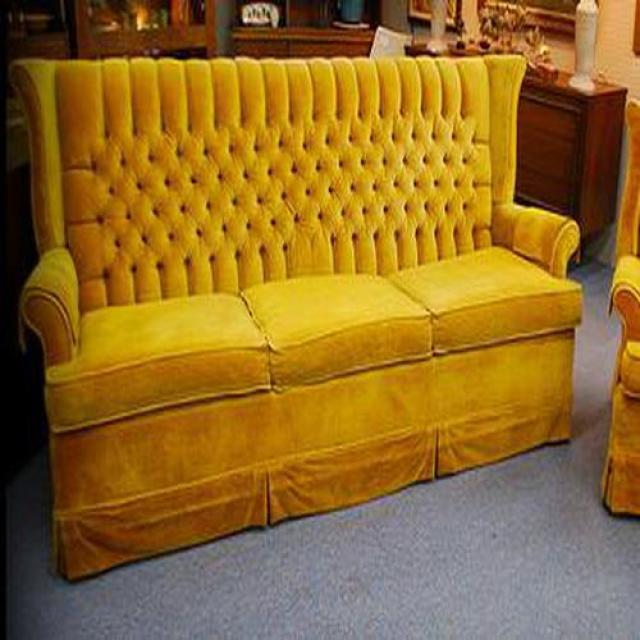sofa: (13, 55, 584, 586)
